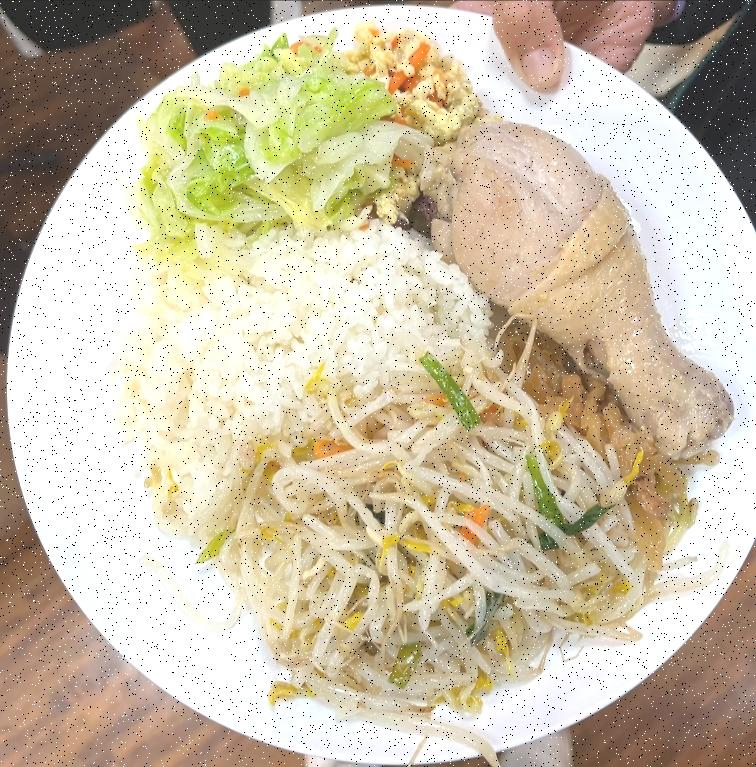plate: (1, 12, 752, 767)
side dish: (229, 378, 664, 708), (129, 64, 389, 234), (349, 24, 489, 137)
small herbal chicken leg: (426, 122, 736, 452)
white rice: (104, 211, 484, 544)
